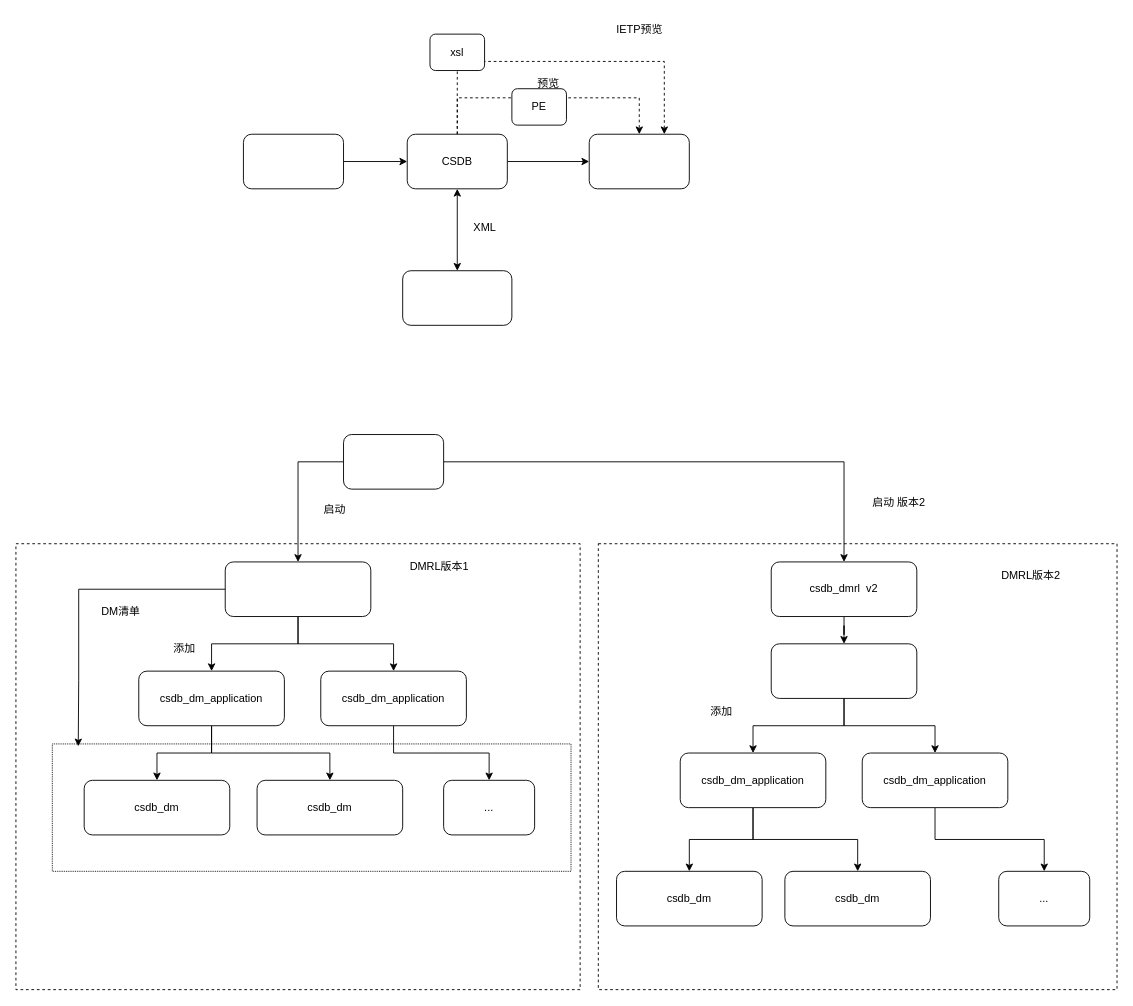
The diagram is 1133 pixels wide and 1006 high, and some of its shapes have lost their labels. Here are the shapes that lost their labels. From the top down, the centre of each, then its label:
the point at 293,161: 更改源
the point at 638,161: 发布系统
the point at 457,297: 客户端S1000D 编辑器
the point at 393,461: csdb_dmrl
the point at 297,589: csdb_dmrl v1
the point at 843,670: csdb_dmrl vv1
